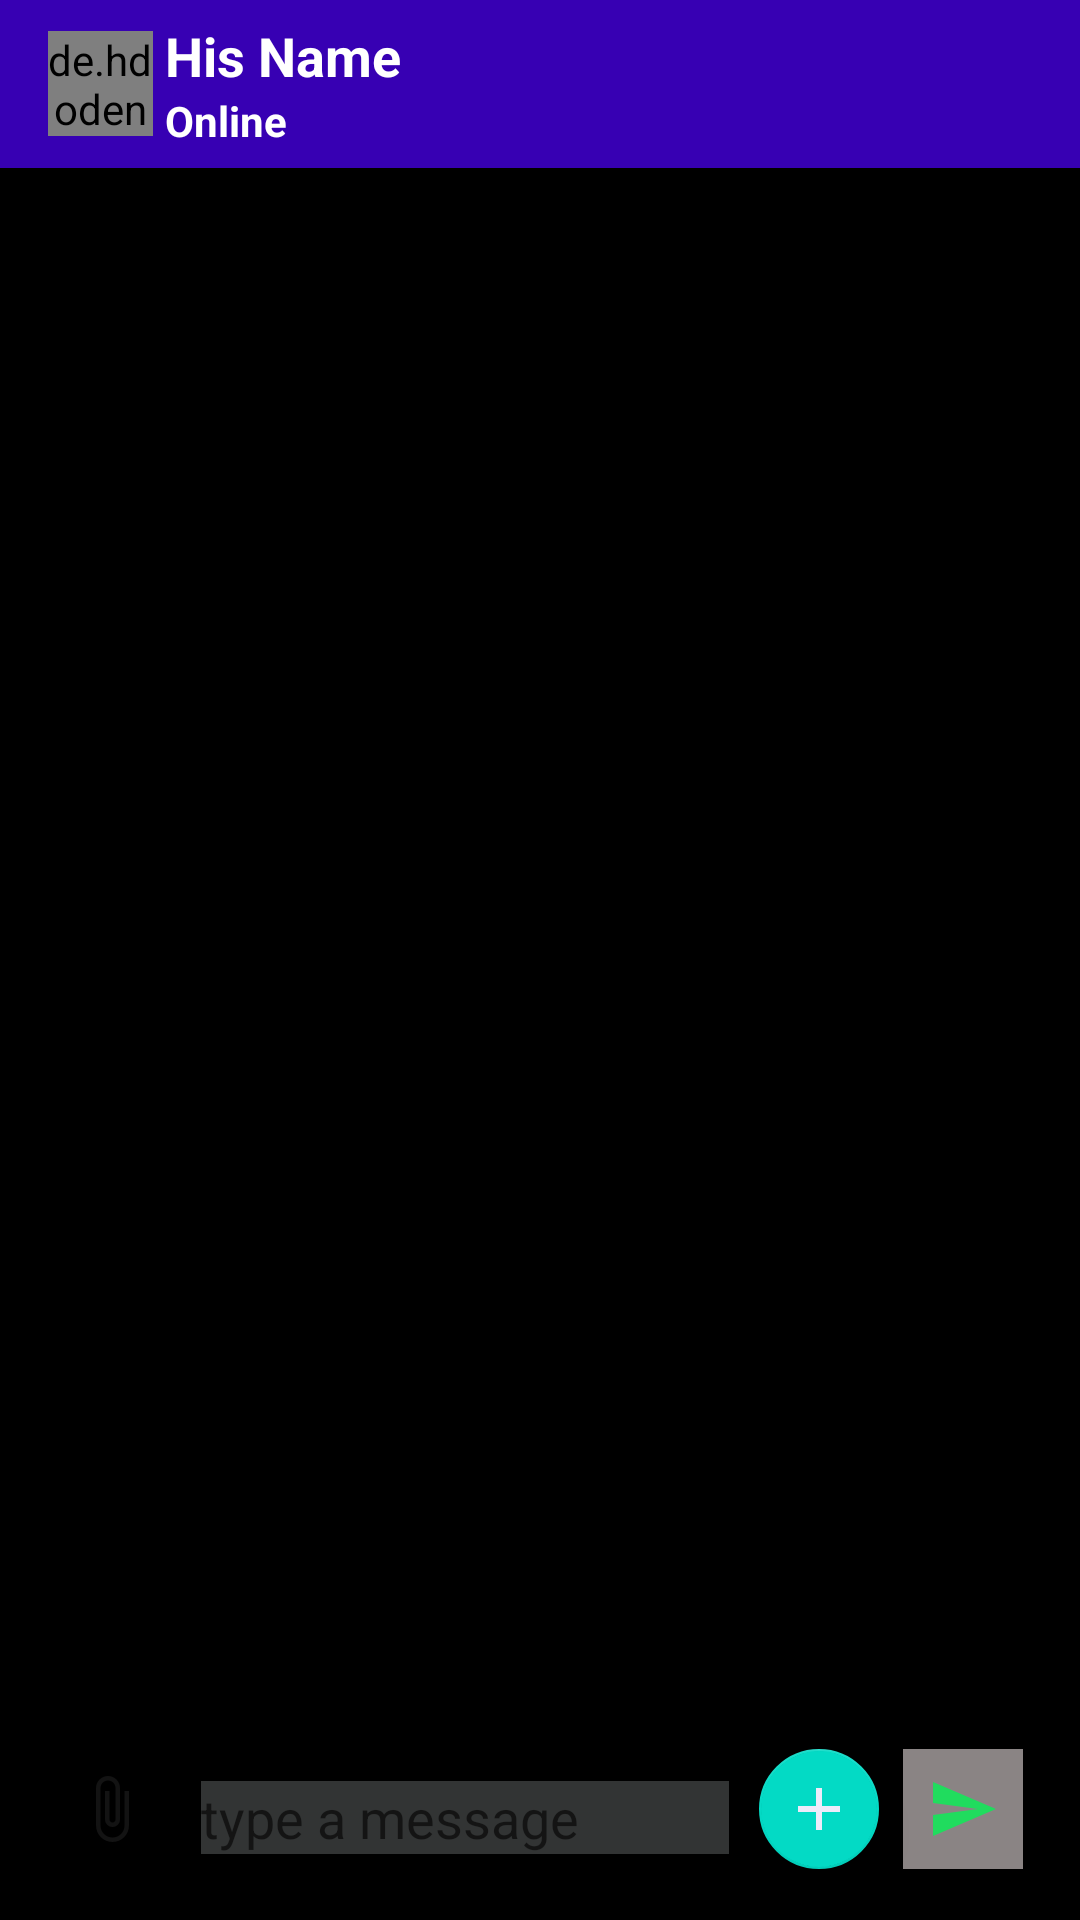

Named icons in this screenshot (1080x1920) and their centers, (x=x, y=y):
add: (x=819, y=1809)
send: (x=963, y=1809)
